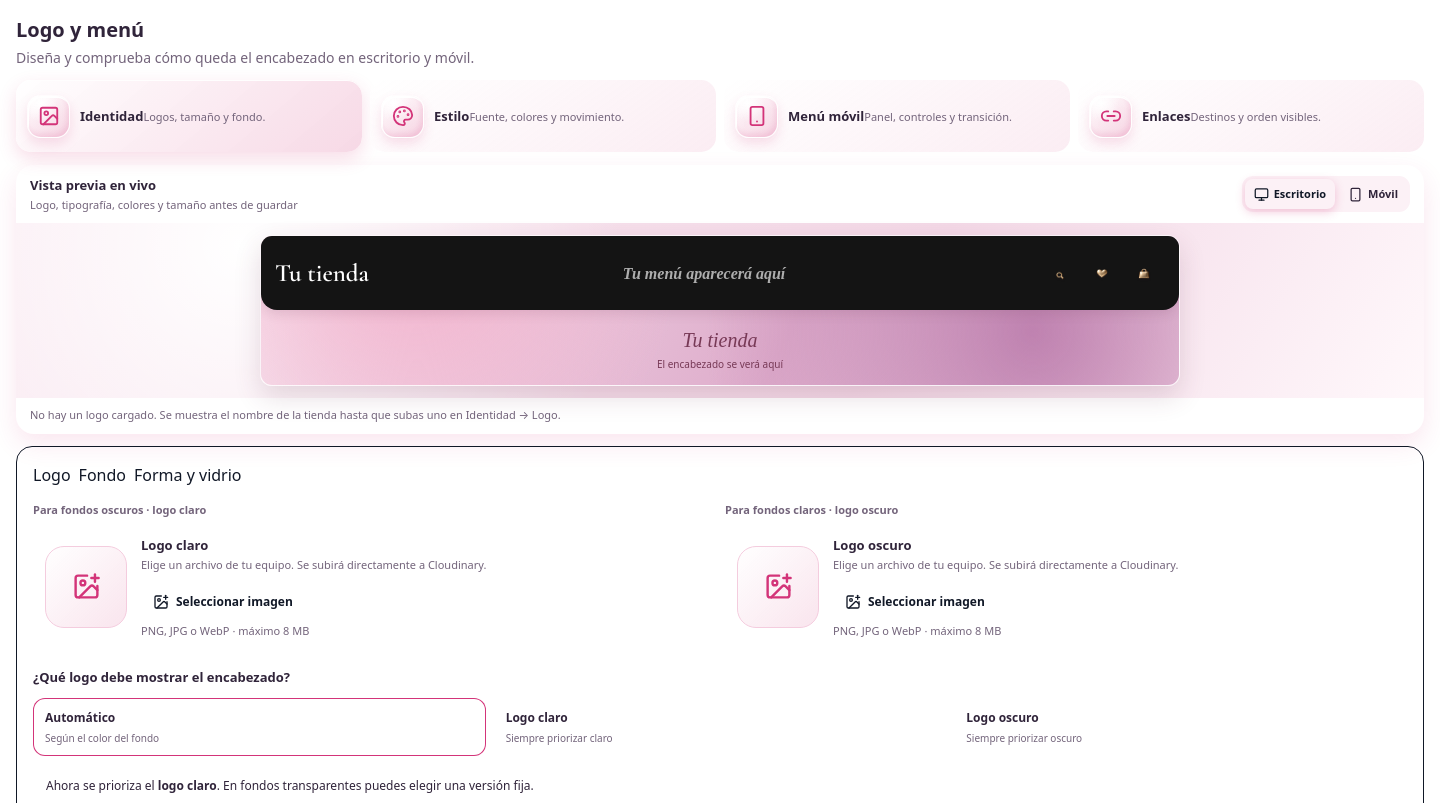
Scenario: personaliza los colores del buscador, los previsualiza y recupera el tema
The width and height of the screenshot is (1440, 803).
Click the button named "Estilo Fuente, colores y movimiento" at (543, 116), box [370,80,716,152]
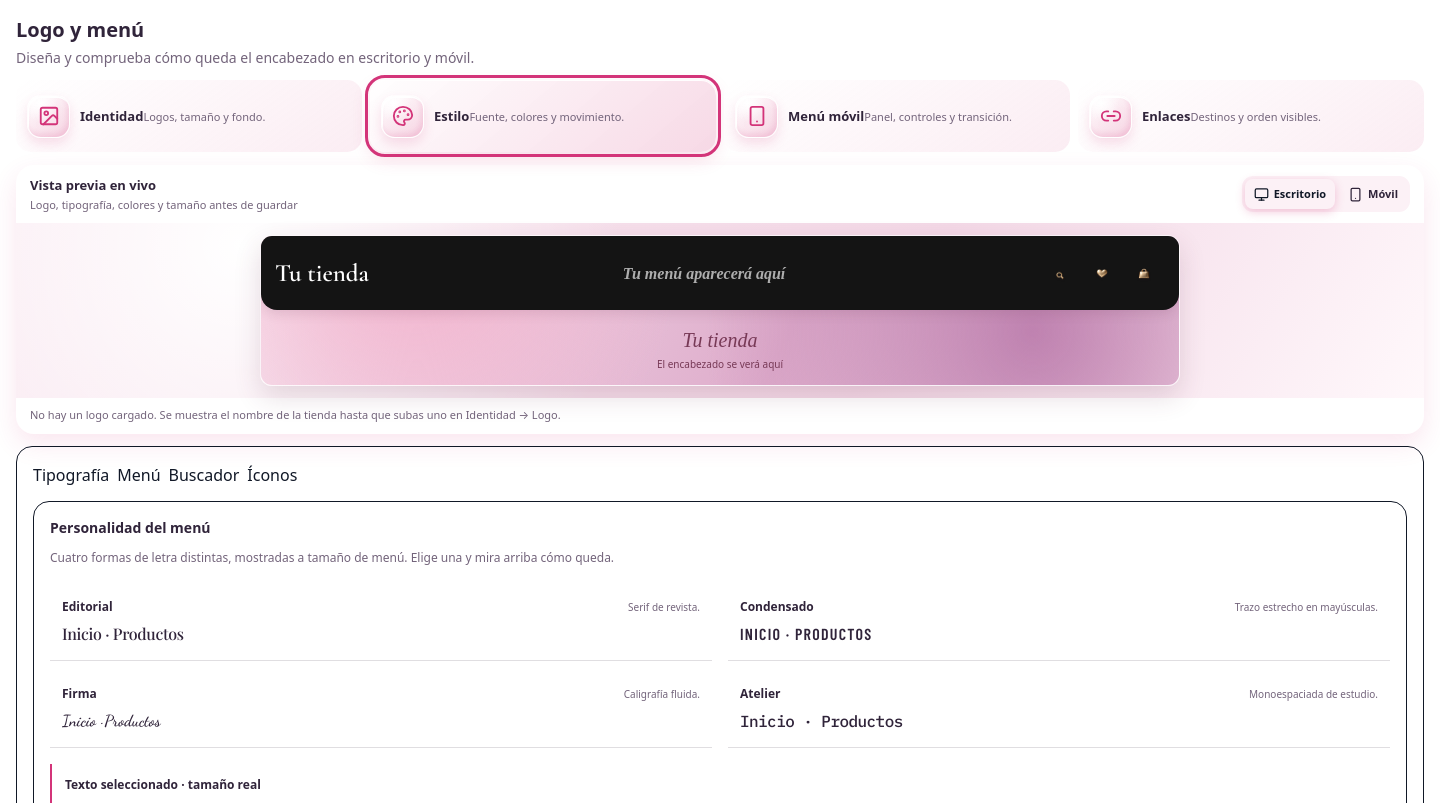
Click the button "Buscador" at (204, 476), box [169,463,239,489]
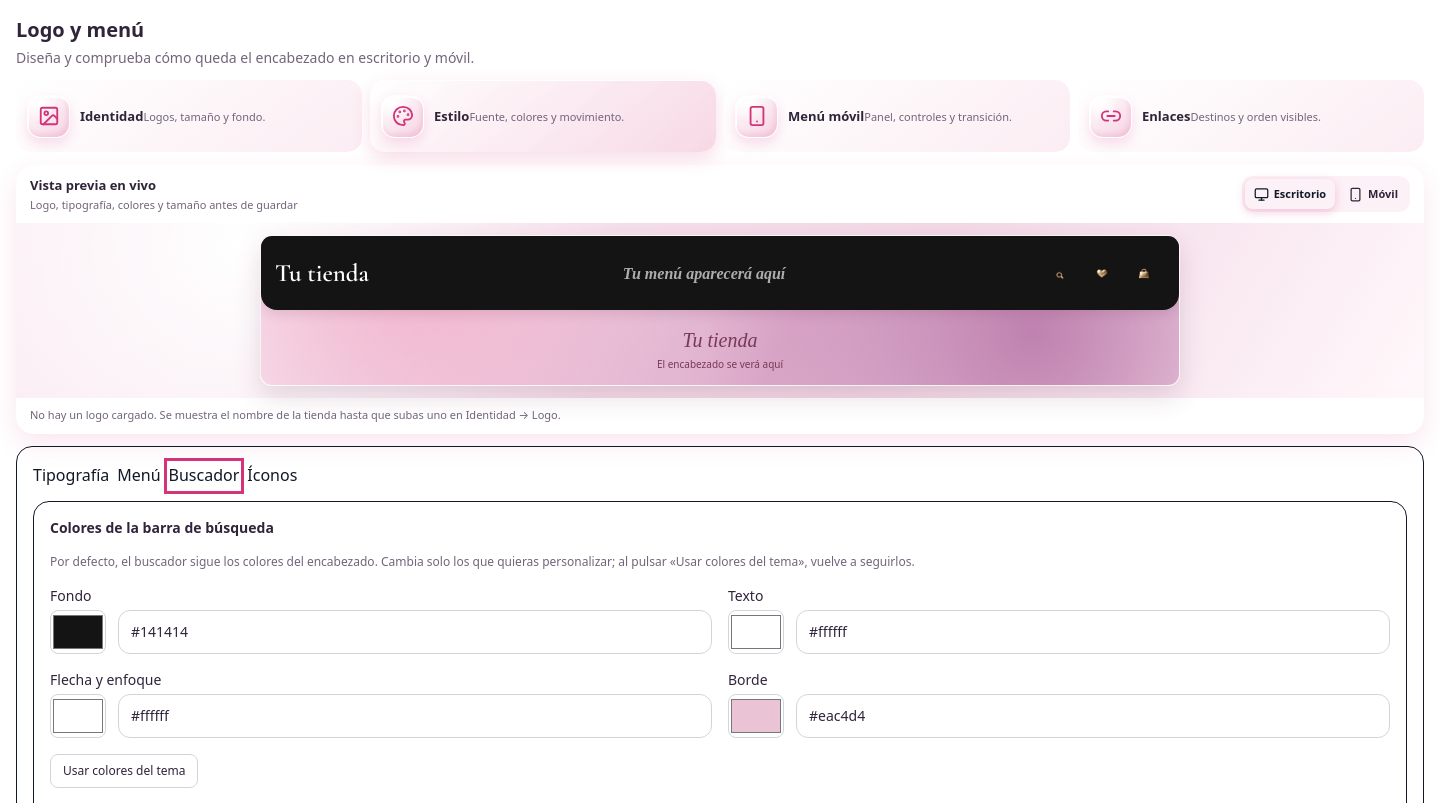
Replace the text in the 1st field with "#254254" at (415, 632), box [118,610,712,654]
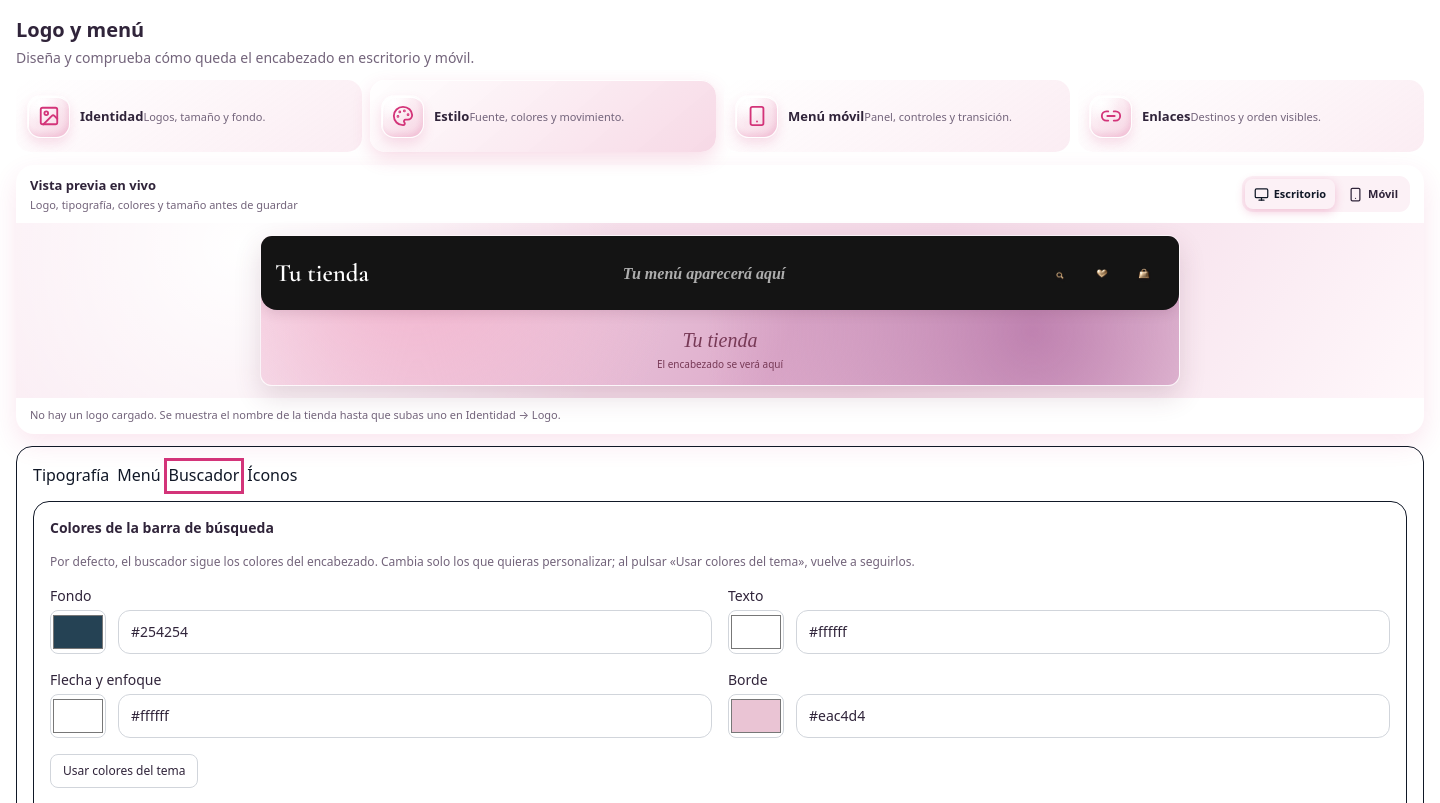
Click the button "Usar colores del tema" at (124, 771), box [50,754,198,788]
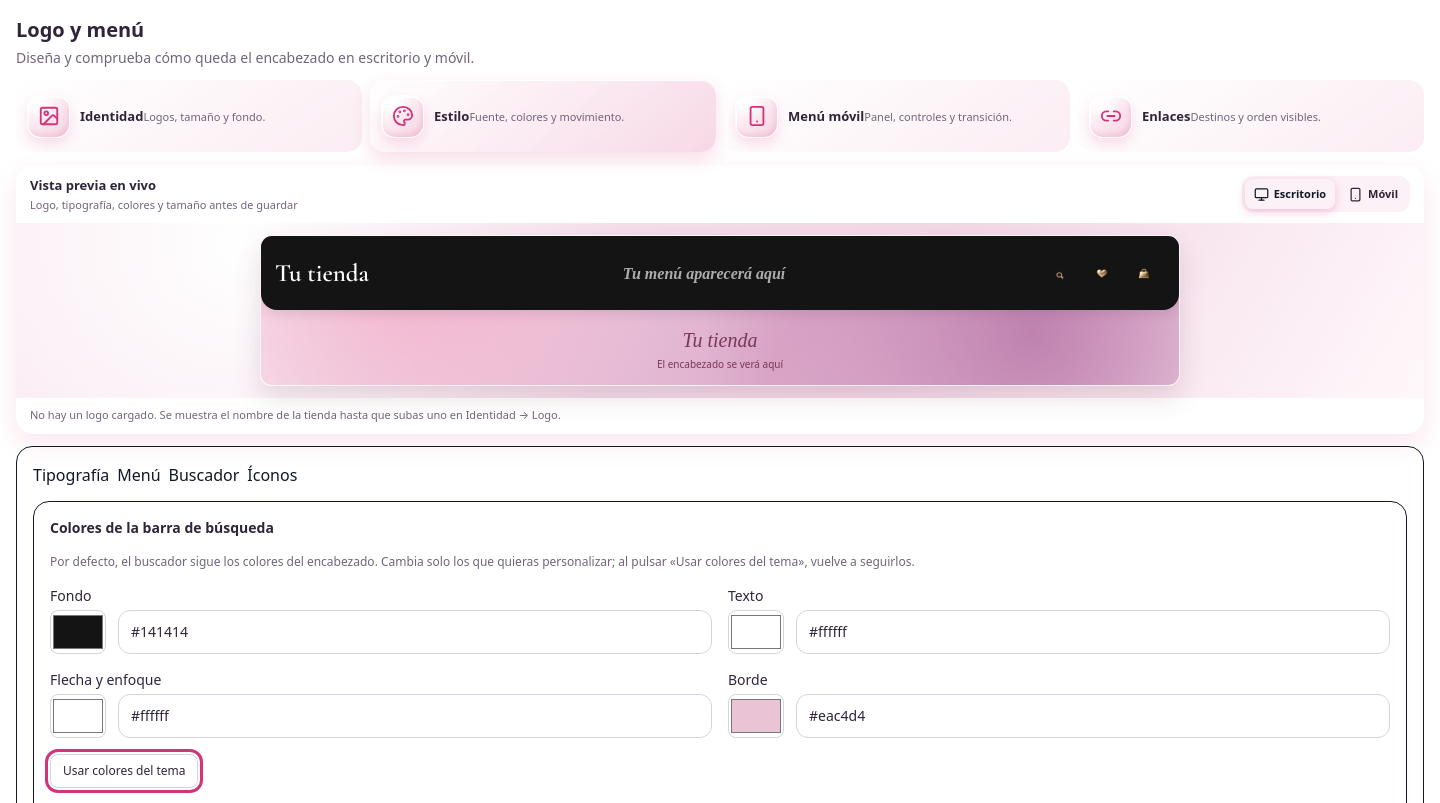
Check: the 1st field holds "#141414", box [118,610,712,654]
